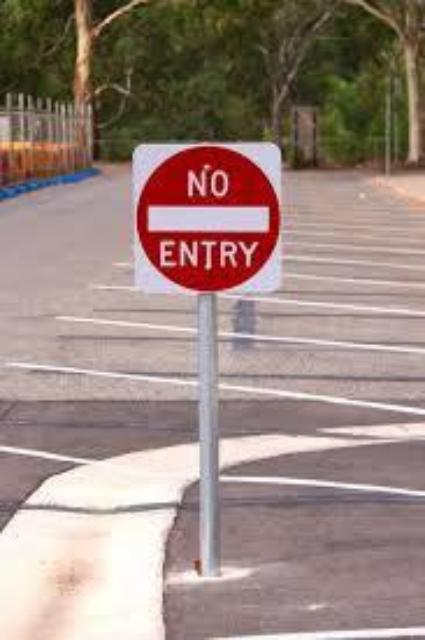B2: (136, 140, 280, 292)
